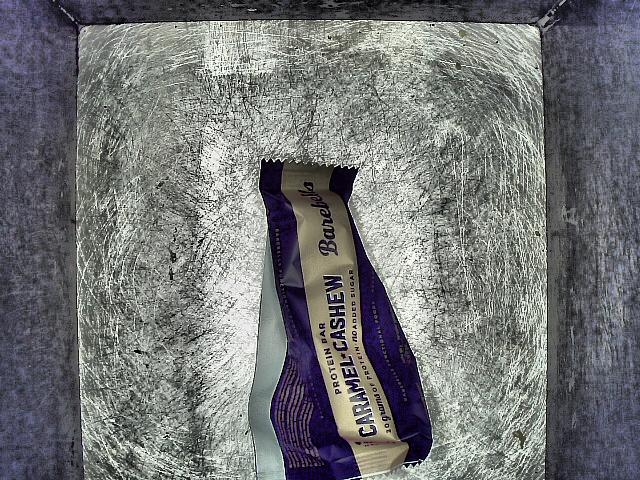Plastic: (223, 121, 433, 480)
